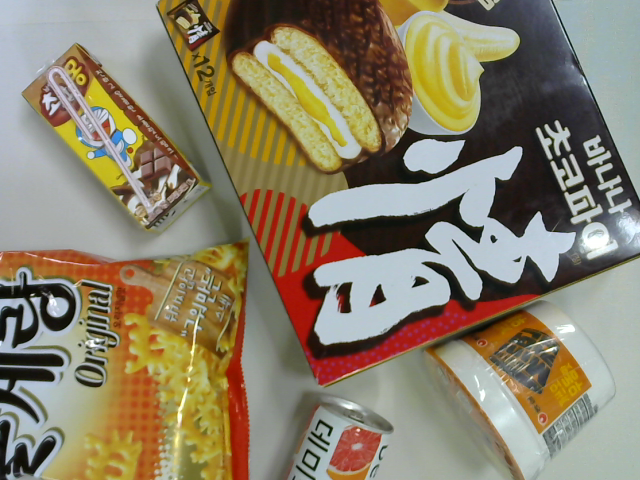Choco_E_Mong: (22, 40, 213, 235)
Choco_Pie_Banana: (156, 1, 640, 388)
Crabrang: (1, 238, 252, 477)
Demisoda_Grapefruit_Can_250ml: (283, 394, 393, 480)
Udongmini: (417, 299, 618, 480)
